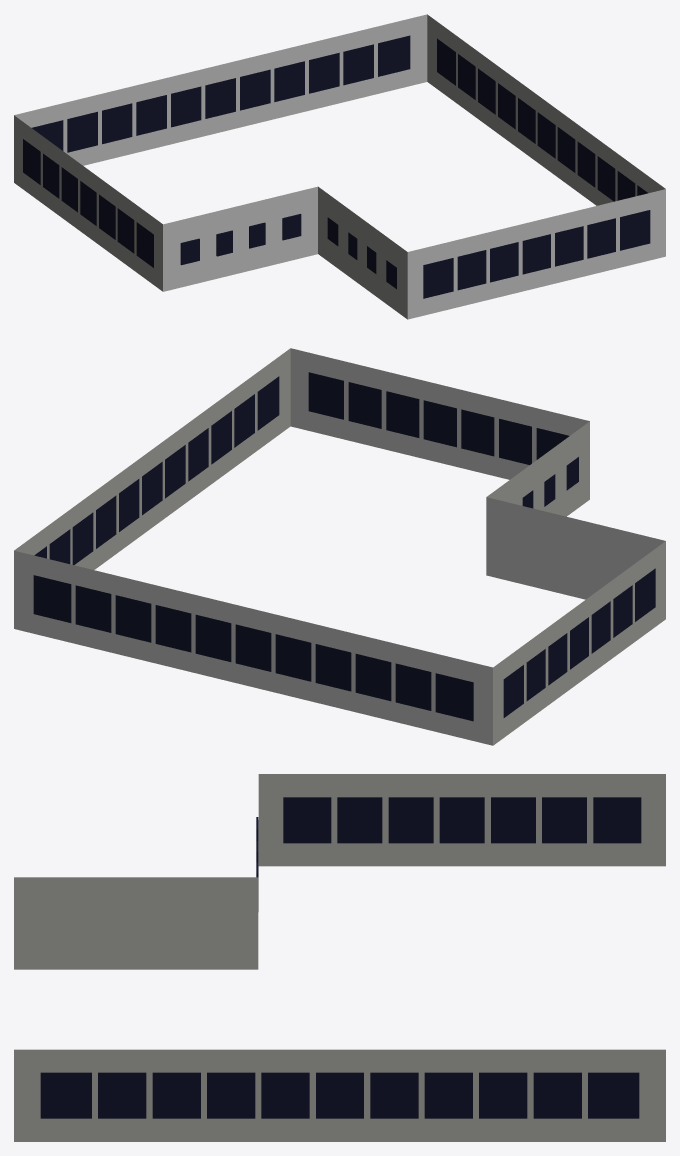
The model's file is TB_CITY_Skysc_P_BodyB_Gray.FBX.
3 views of the same model, one above another, from view 1: azimuth 30°, elevation 25°; view 2: azimuth 150°, elevation 25°; view 3: azimuth 270°, elevation 25° (orthographic). The views are drawn at different scales.
Parts seen in each view (by area): view 1: TB_CITY_Skysc_P_BodyB_Gray; view 2: TB_CITY_Skysc_P_BodyB_Gray; view 3: TB_CITY_Skysc_P_BodyB_Gray.
Part boxes in pixels (x1,y1,x2,y2): TB_CITY_Skysc_P_BodyB_Gray: (14,14,665,319); TB_CITY_Skysc_P_BodyB_Gray: (14,348,665,745); TB_CITY_Skysc_P_BodyB_Gray: (14,774,665,1141).
Size of the model in its own units: 32 by 5 by 32.
